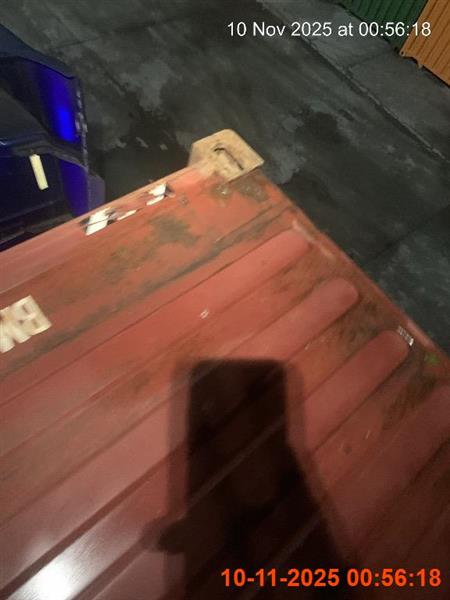broken: (0, 128, 449, 599)
